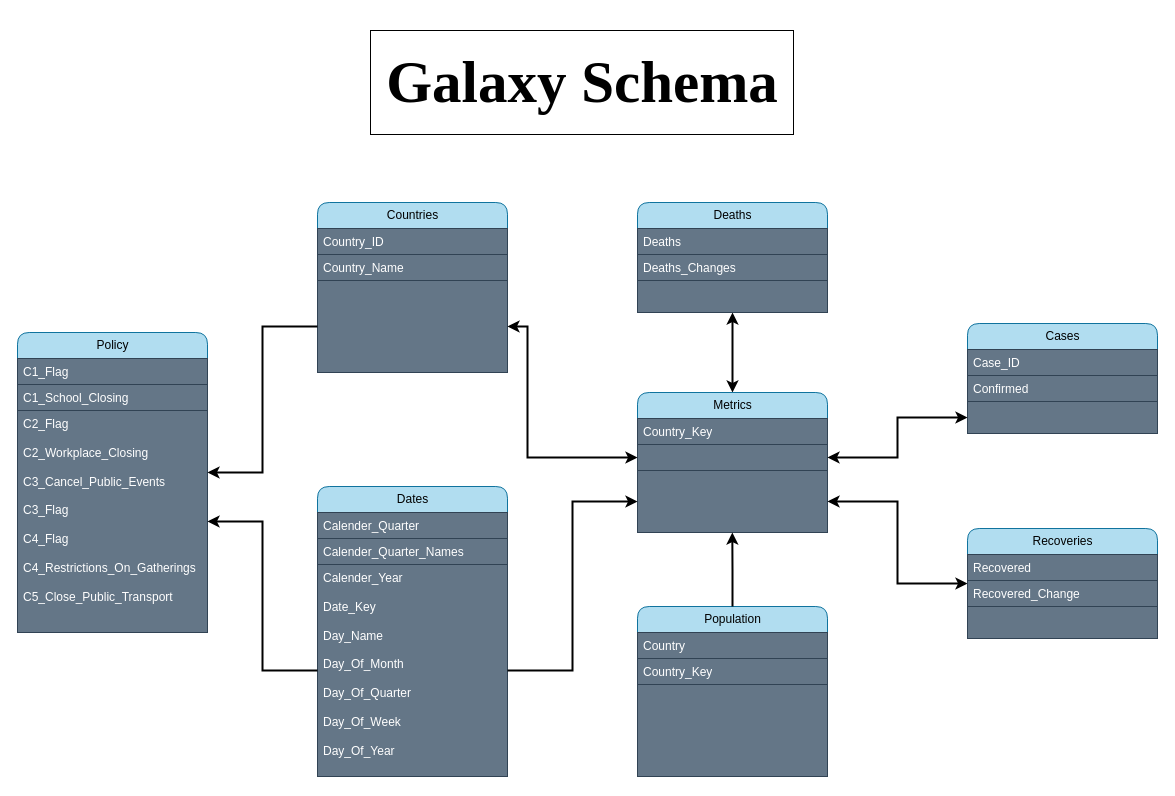
Some shapes in this 1175 by 796 pixel diagram are drawn without their labels. Each missing label, with the centre of its shape:
Confirmed_Change: the point at 1062,417
Country_Code Latitude Longitude: the point at 412,326
Date_Key: the point at 732,457
Deaths_ID: the point at 732,296
Density Population_2020 Population_2021: the point at 732,730
Fact_Key Metrics_Key: the point at 732,501
Recoveries_ID: the point at 1062,622
